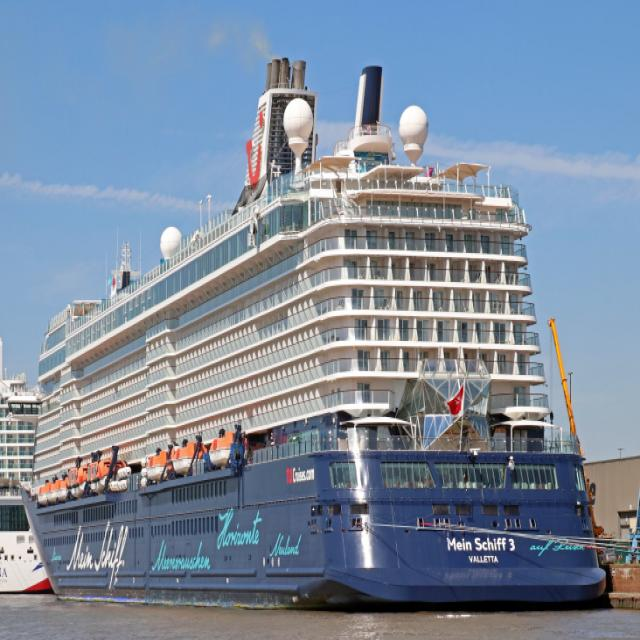cruises: (19, 53, 619, 624)
